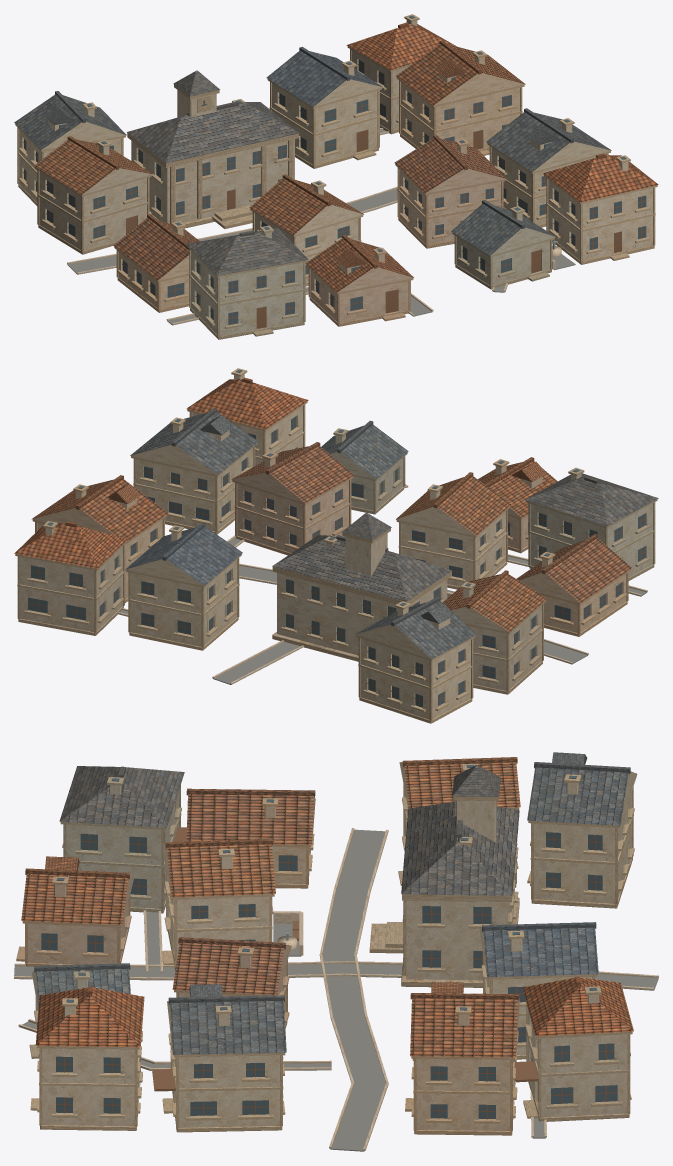
Rendered from city_west_1.gltf.
The picture shows the model from 3 angles, top to bottom: view 1: azimuth 30°, elevation 25°; view 2: azimuth 150°, elevation 25°; view 3: azimuth 270°, elevation 25°; orthographic projection. The views are drawn at different scales.
Parts seen in each view (by area): view 1: city_west_1; view 2: city_west_1; view 3: city_west_1.
Part boxes in pixels (x1,y1,x2,y2): city_west_1: (14,14,658,339); city_west_1: (14,368,658,723); city_west_1: (14,752,658,1151).
Bounding box in the file's own units: 1 × 0.2513 × 0.8483.
5 materials, 1 textured.
